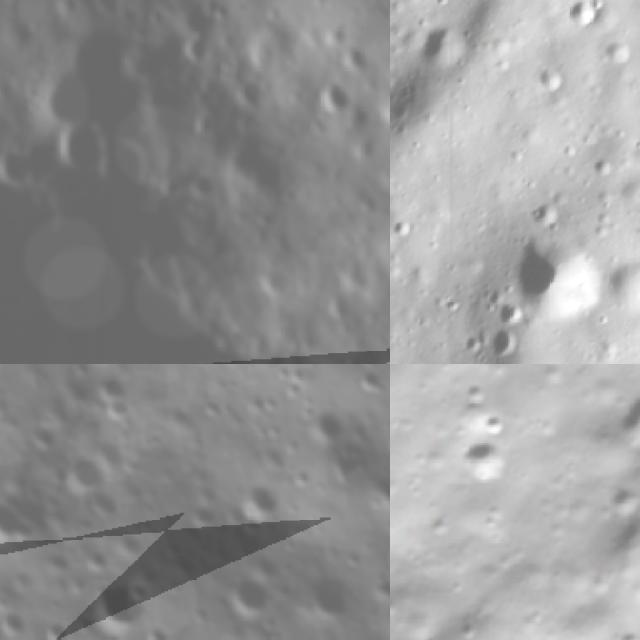crater: (0, 169, 262, 364), (511, 234, 599, 314), (79, 560, 161, 640), (43, 106, 106, 182), (298, 564, 362, 630), (219, 563, 284, 626), (452, 426, 513, 489), (56, 440, 116, 501), (0, 482, 45, 559), (599, 368, 640, 450), (88, 426, 144, 484), (301, 399, 357, 456), (0, 137, 47, 200), (238, 467, 286, 525), (306, 70, 361, 119), (412, 17, 462, 70), (597, 465, 640, 520), (542, 0, 601, 38), (249, 259, 293, 307), (93, 365, 139, 410), (82, 482, 127, 528), (611, 248, 640, 315), (96, 391, 137, 429), (353, 364, 390, 405), (361, 563, 390, 611), (484, 322, 520, 360), (0, 603, 35, 640), (126, 574, 160, 612), (35, 611, 76, 640), (489, 296, 525, 324), (378, 82, 390, 133), (82, 364, 137, 375), (379, 524, 390, 576)
